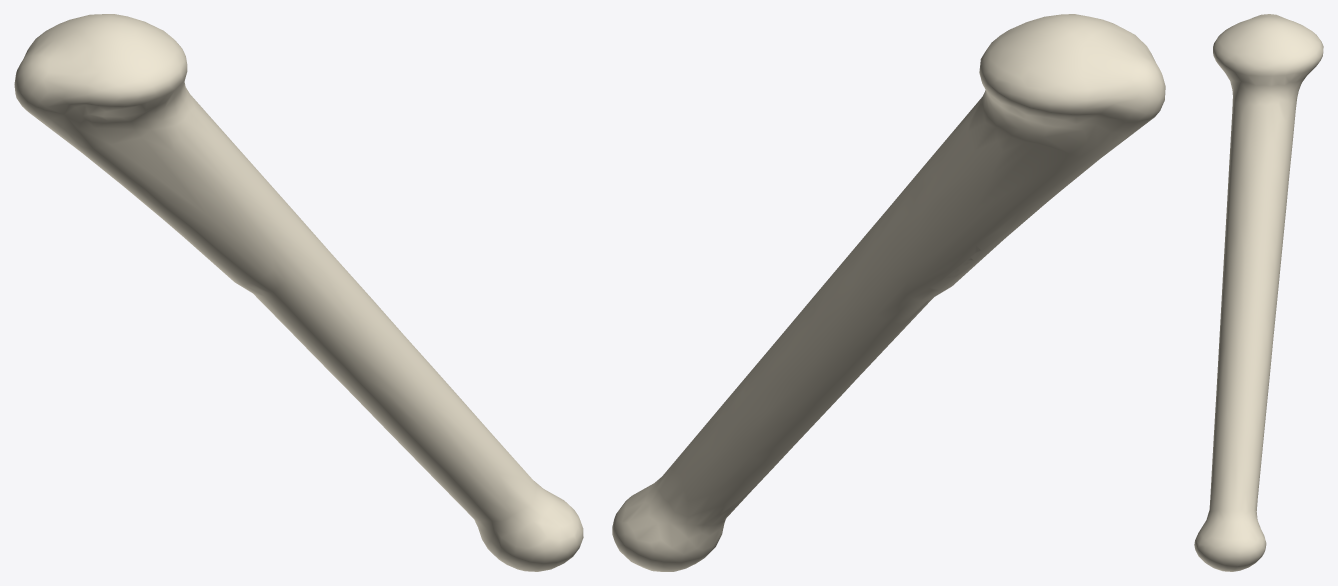
The model's file is tibia_r.glb.
3 renders of one model, left to right at view 1: azimuth 30°, elevation 25°; view 2: azimuth 150°, elevation 25°; view 3: azimuth 270°, elevation 25°, orthographic. The views are drawn at different scales.
Visible parts, largest first — view 1: geometry_0; view 2: geometry_0; view 3: geometry_0.
Boxes of the visible parts, <box> form: geometry_0: <box>14,14,583,571</box>; geometry_0: <box>612,14,1165,571</box>; geometry_0: <box>1194,14,1323,571</box>.
Bounding box in the file's own units: 0.6481 × 0.7279 × 0.2049.
